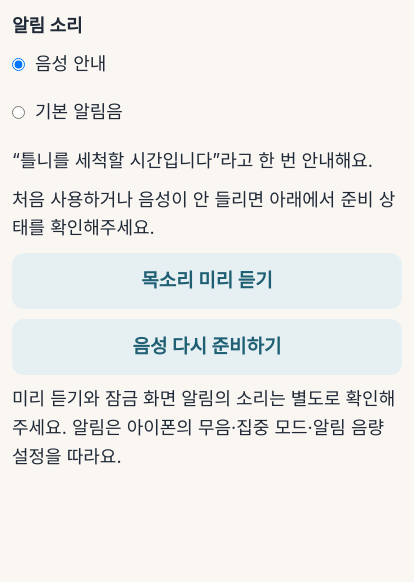
it: 재생 중단을 음성 확인 완료로 처리하지 않는다
Click the button "목소리 미리 듣기": (207, 281) [12,253,402,309]
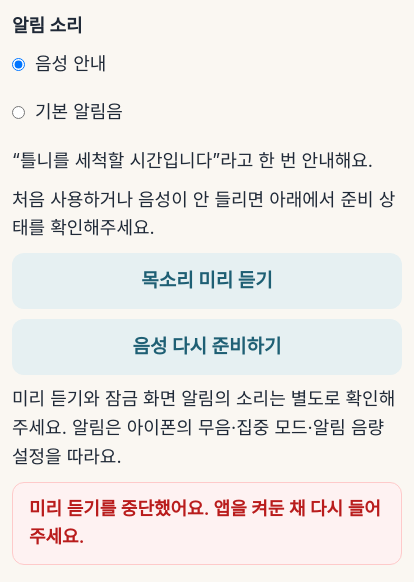
Expected: the message "미리 듣기를 중단했어요. 앱을 켜둔 채 다시 들어주세요." is shown, [12,482,402,565]
